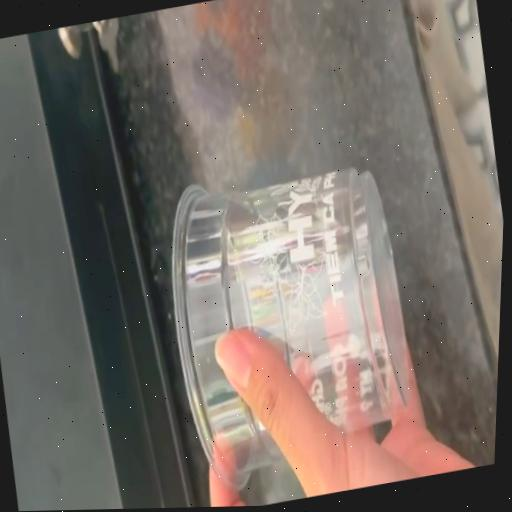Ly_giay: (172, 168, 407, 489)
ly_nhua: (172, 168, 407, 489)
